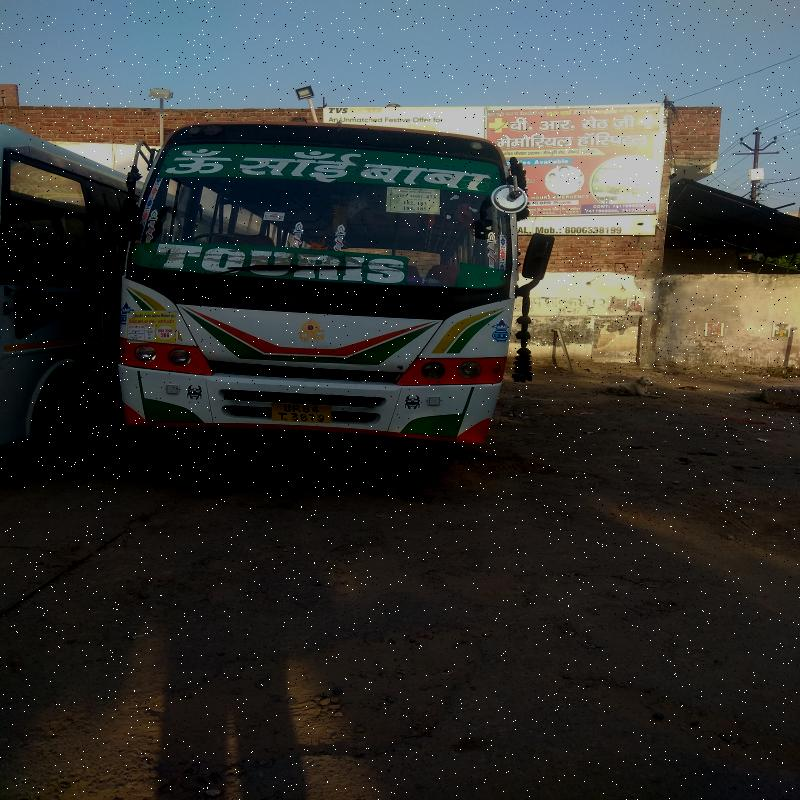bus: (123, 109, 538, 479)
